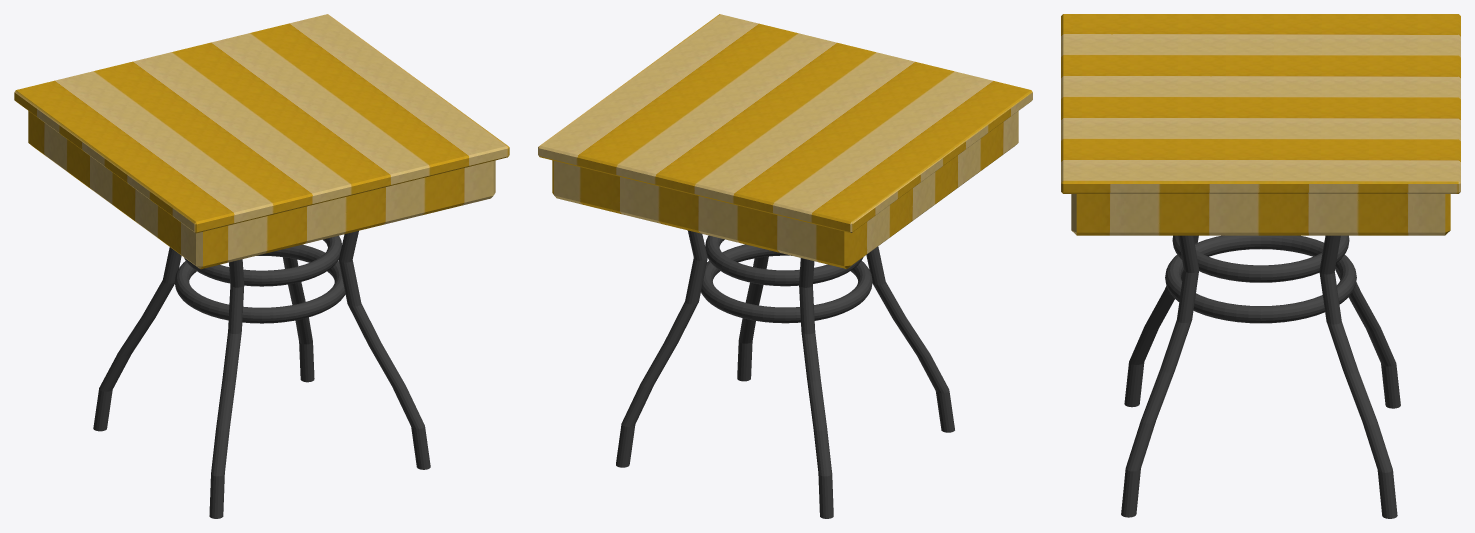
The model's file is sh-scopia-table3.glb.
3 views of the same model, side by side, from view 1: azimuth 30°, elevation 25°; view 2: azimuth 150°, elevation 25°; view 3: azimuth 270°, elevation 25° (orthographic). The views are drawn at different scales.
Visible parts, largest first — view 1: taula_rodo_mesa_r, taula_rodo_metall; view 2: taula_rodo_mesa_r, taula_rodo_metall; view 3: taula_rodo_mesa_r, taula_rodo_metall.
Boxes of the visible parts, x1=… form: taula_rodo_mesa_r: x1=14, y1=14, x2=509, y2=269; taula_rodo_metall: x1=93, y1=231, x2=430, y2=518; taula_rodo_mesa_r: x1=538, y1=14, x2=1032, y2=268; taula_rodo_metall: x1=616, y1=230, x2=954, y2=518; taula_rodo_mesa_r: x1=1061, y1=14, x2=1460, y2=235; taula_rodo_metall: x1=1121, y1=235, x2=1400, y2=518.
Bounding box in the file's own units: 1 × 1 × 1.
2 materials, 1 textured.
